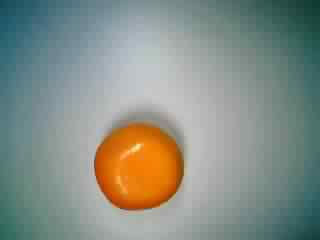orange: (90, 117, 186, 213)
